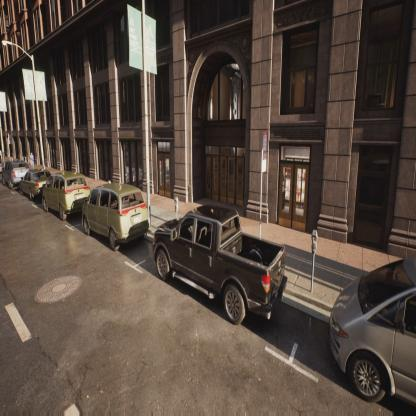License-Plate: (133, 216, 140, 225), (76, 194, 83, 203), (17, 171, 26, 178)
